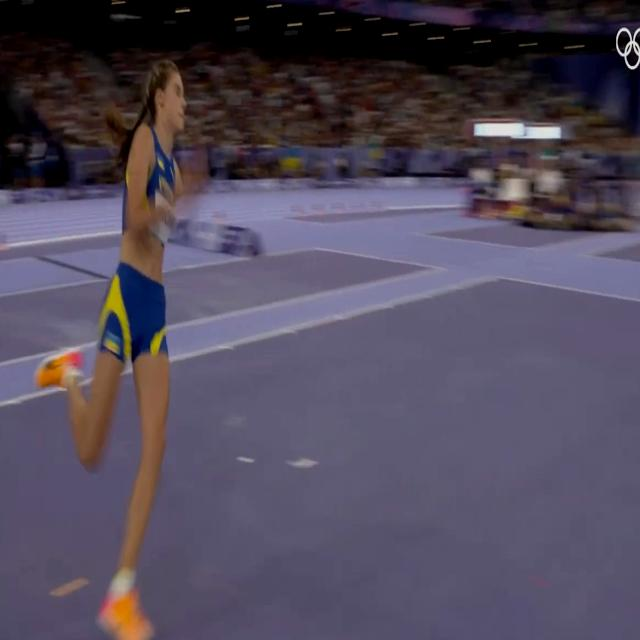run: (32, 49, 202, 640)
